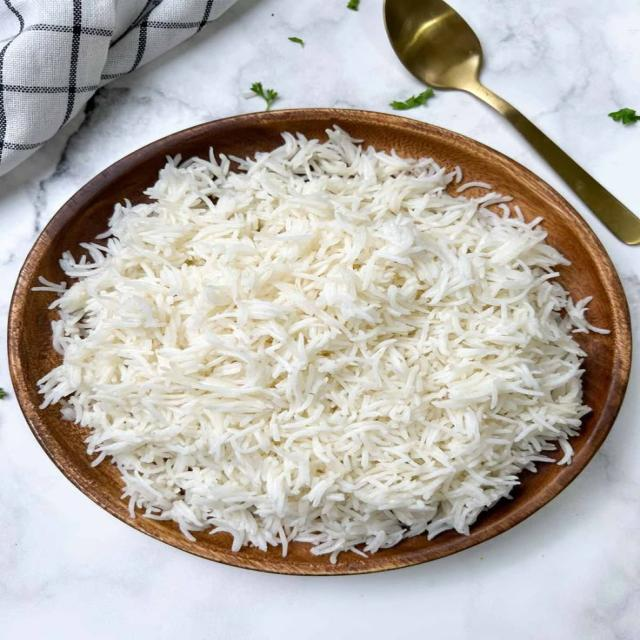rice: (40, 130, 597, 560)
